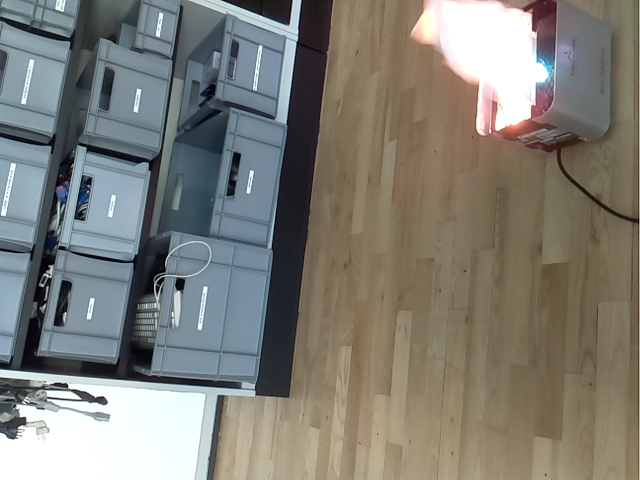fire: (409, 1, 539, 120)
